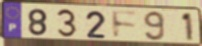1: (180, 12, 195, 42)
2: (83, 9, 110, 40)
3: (55, 7, 79, 39)
8: (27, 8, 49, 37)
9: (142, 10, 167, 42)
F: (110, 9, 140, 40)
